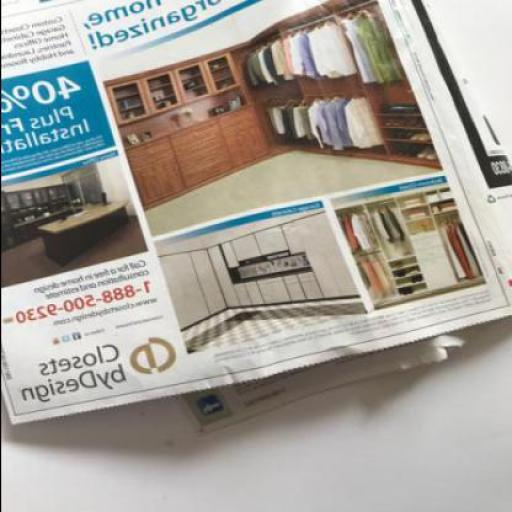paper: (1, 0, 511, 437)
